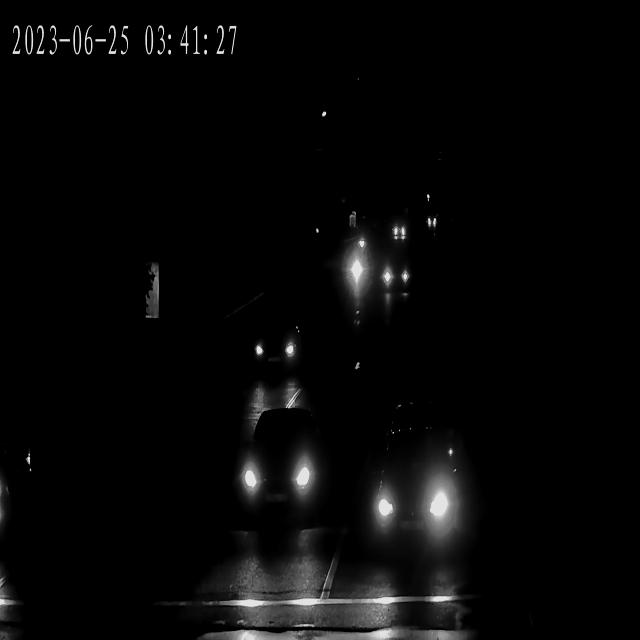Car: (358, 418, 460, 540), (234, 416, 324, 517), (0, 432, 41, 576), (248, 316, 305, 371), (376, 259, 410, 295), (386, 224, 406, 242), (425, 213, 439, 236)
Motorcycle: (348, 245, 366, 289)
